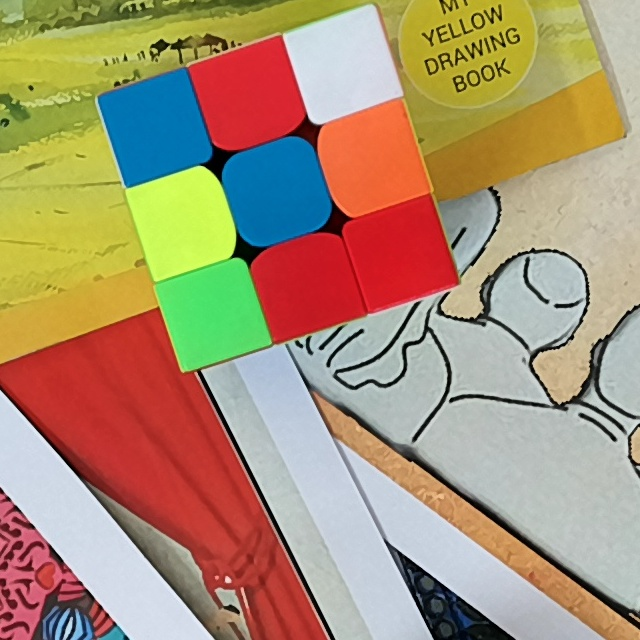tile: (238, 155, 315, 226), (336, 122, 408, 197), (144, 184, 219, 256), (307, 27, 381, 99), (207, 62, 286, 129), (274, 247, 346, 320), (364, 218, 438, 289), (120, 90, 190, 165), (177, 278, 248, 346)
